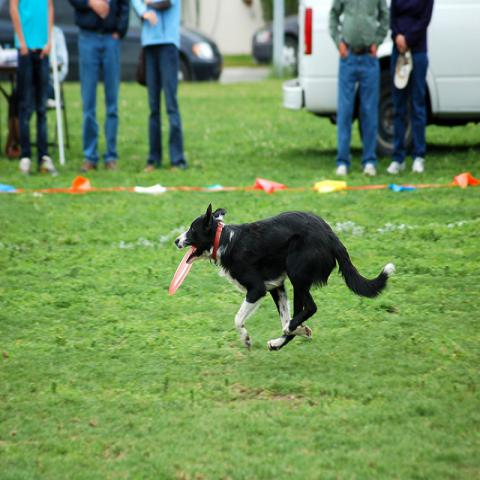car: (280, 0, 480, 157), (0, 1, 224, 82), (251, 13, 298, 74)
truck: (298, 0, 480, 157)
